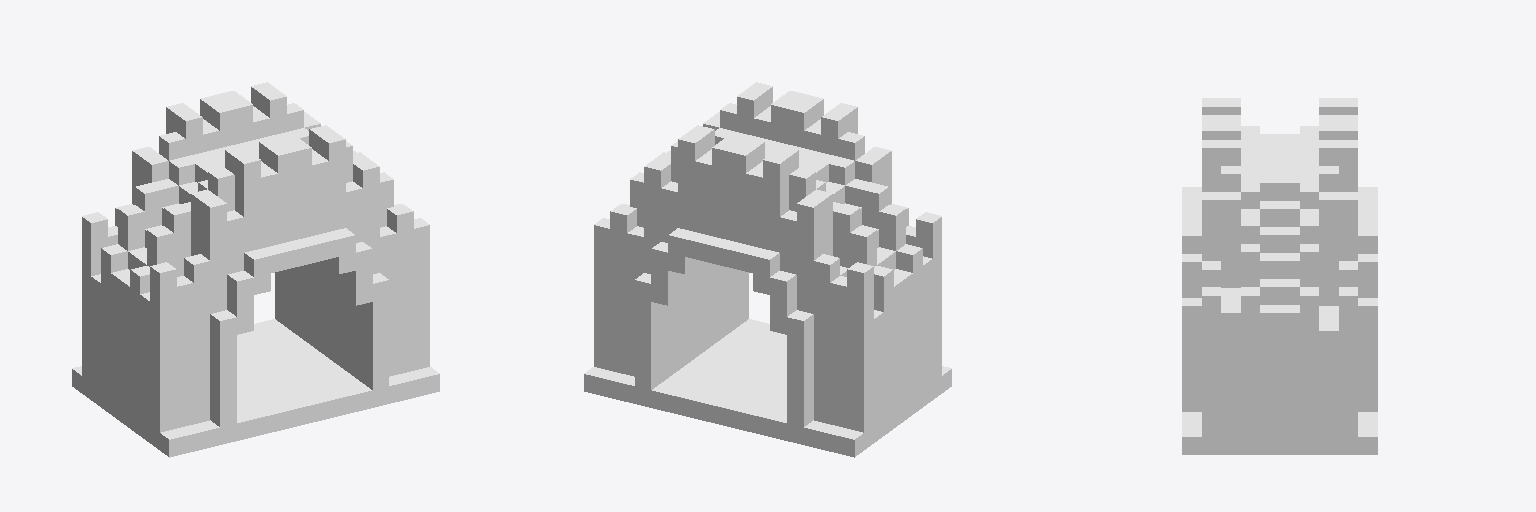
File: WallGate1.obj
The picture shows the model from 3 angles: view 1: azimuth 30°, elevation 25°; view 2: azimuth 150°, elevation 25°; view 3: azimuth 270°, elevation 25°; orthographic projection.
Visible parts, largest first — view 1: WallGate1; view 2: WallGate1; view 3: WallGate1.
Boxes of the visible parts, x1=… form: WallGate1: x1=72, y1=82, x2=439, y2=457; WallGate1: x1=584, y1=82, x2=951, y2=457; WallGate1: x1=1182, y1=98, x2=1377, y2=454.
Bounding box in the file's own units: 16 × 15 × 10.